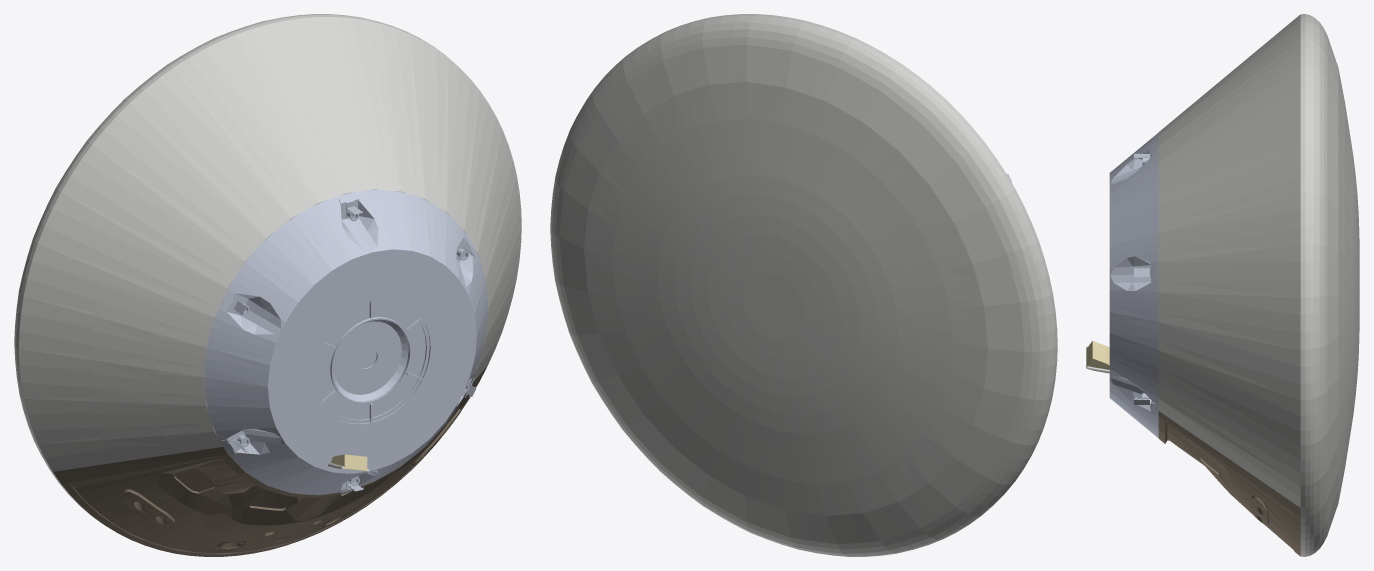
Rendered from orion.glb.
3 renders of one model, left to right at view 1: azimuth 30°, elevation 25°; view 2: azimuth 150°, elevation 25°; view 3: azimuth 270°, elevation 25°, orthographic. The views are drawn at different scales.
Visible parts, largest first — view 1: UnifiedCMV2_0, UnifiedCMV2_2, UnifiedCMV2_Face_0, UnifiedCMV2_1, UnifiedCMV2_3, UnifiedCMV2_Face_3, UnifiedCMV2_Face_1; view 2: UnifiedCMV2_3; view 3: UnifiedCMV2_0, UnifiedCMV2_3, UnifiedCMV2_2, UnifiedCMV2_Face_0, UnifiedSM.001_9, UnifiedCMV2_Face_3.
Part boxes in pixels (box(x1,y1,x2,y2)): UnifiedCMV2_0: box(19, 17, 521, 471); UnifiedCMV2_2: box(204, 190, 488, 494); UnifiedCMV2_Face_0: box(53, 366, 487, 556); UnifiedCMV2_1: box(91, 298, 169, 454); UnifiedCMV2_3: box(14, 14, 446, 524); UnifiedCMV2_Face_3: box(121, 408, 460, 549); UnifiedCMV2_Face_1: box(175, 468, 291, 508); UnifiedCMV2_3: box(550, 14, 1057, 556); UnifiedCMV2_0: box(1158, 14, 1300, 507); UnifiedCMV2_3: box(1300, 14, 1359, 556); UnifiedCMV2_2: box(1109, 133, 1158, 437); UnifiedCMV2_Face_0: box(1158, 411, 1300, 556); UnifiedSM.001_9: box(1086, 340, 1109, 369); UnifiedCMV2_Face_3: box(1250, 495, 1268, 525).
Size of the model in its own units: 1 by 1 by 0.5036.
